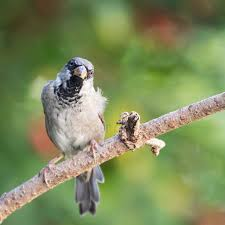hsparrow: (38, 50, 108, 218)
